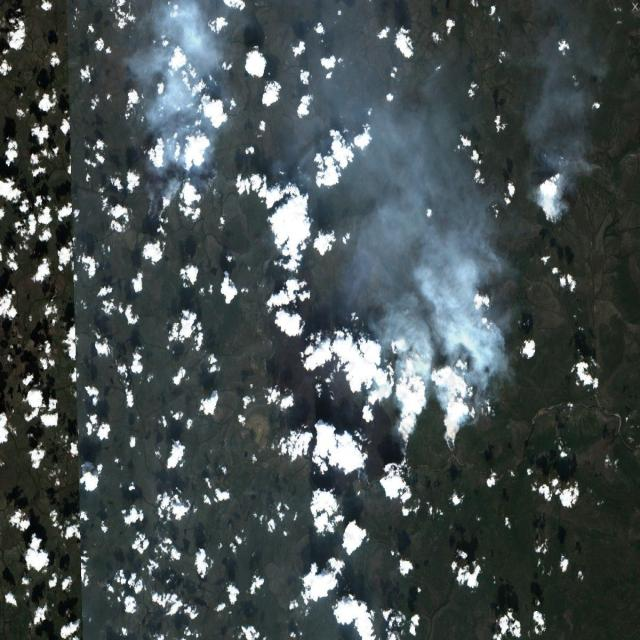fire: (140, 182, 180, 236), (533, 170, 571, 224), (470, 371, 504, 412), (392, 427, 424, 463), (438, 432, 467, 462)
